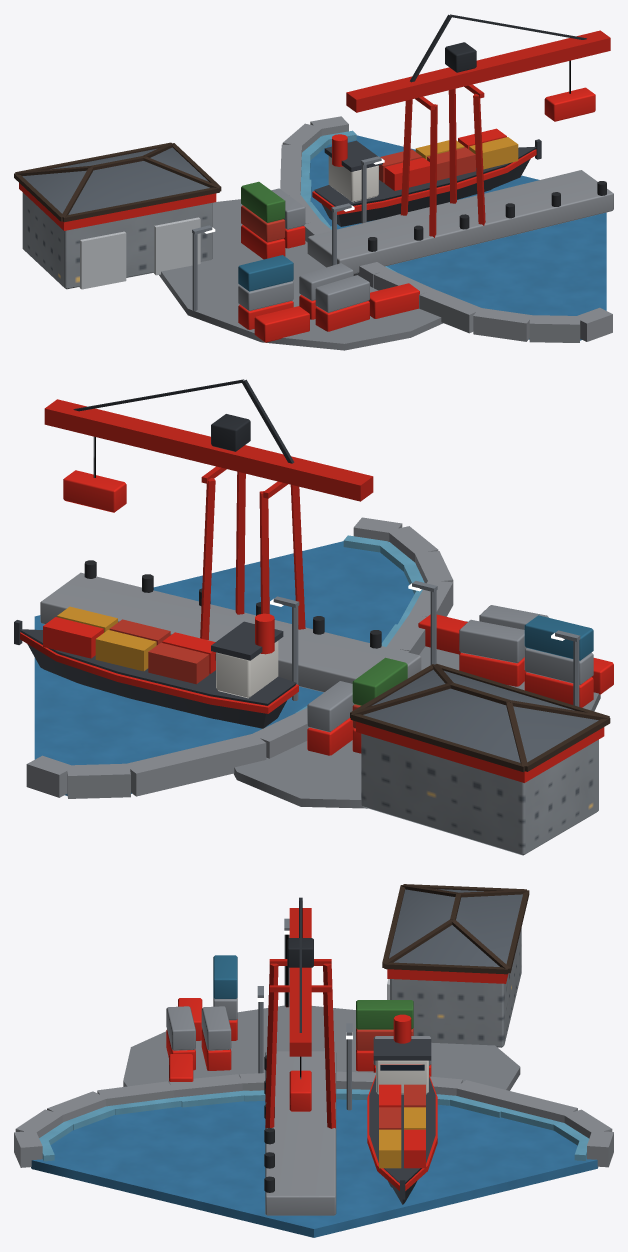
Rendered from port_modern_red.glb.
3 renders of one model, top to bottom at view 1: azimuth 30°, elevation 25°; view 2: azimuth 150°, elevation 25°; view 3: azimuth 270°, elevation 25°, orthographic. The views are drawn at different scales.
Visible parts, largest first — view 1: port_modern_red; view 2: port_modern_red; view 3: port_modern_red.
Part boxes in pixels (x1,y1,x2,y2): port_modern_red: (14, 14, 613, 350); port_modern_red: (14, 379, 613, 855); port_modern_red: (14, 884, 613, 1237).
Bounding box in the file's own units: 1.43 × 0.6323 × 1.36.
2 materials, 1 textured.
